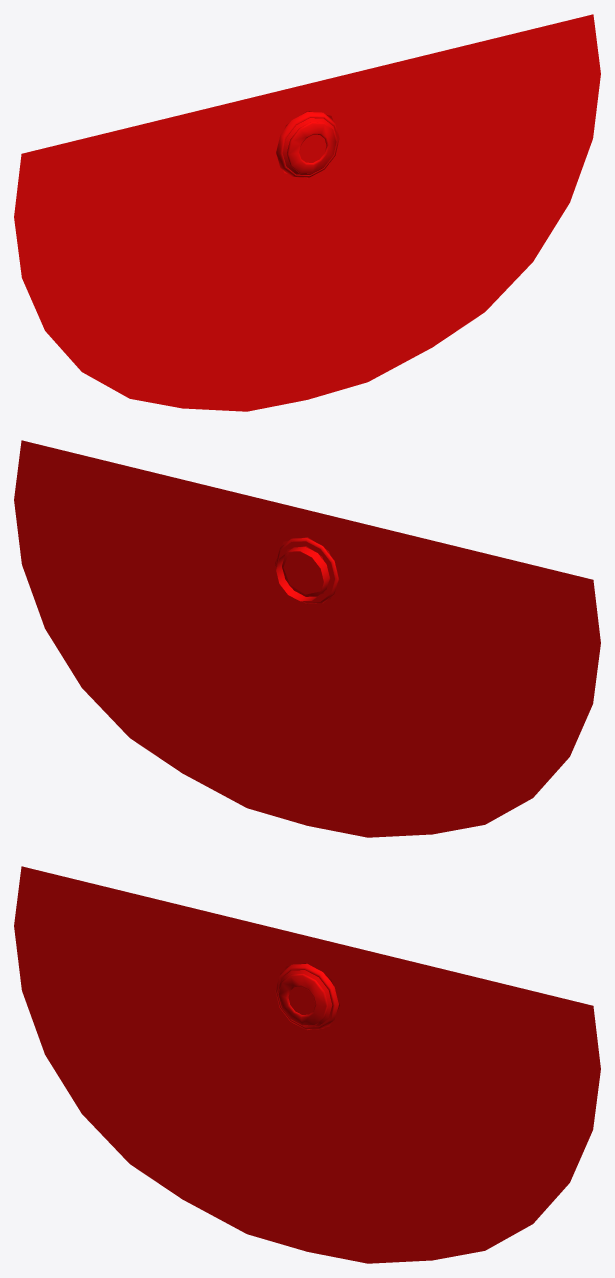
File: MeshPsSinkbasin_26_1.obj
The picture shows the model from 3 angles, top to bottom: view 1: azimuth 30°, elevation 25°; view 2: azimuth 150°, elevation 25°; view 3: azimuth 330°, elevation 25°; orthographic projection.
Parts seen in each view (by area): view 1: PsSinkbasin_26; view 2: PsSinkbasin_26; view 3: PsSinkbasin_26.
Part boxes in pixels (box(x1,y1,x2,y2)): PsSinkbasin_26: box(14, 14, 600, 411); PsSinkbasin_26: box(14, 440, 600, 837); PsSinkbasin_26: box(14, 866, 600, 1263).
Size of the model in its own units: 0.725 by 0.3728 by 0.0295.
